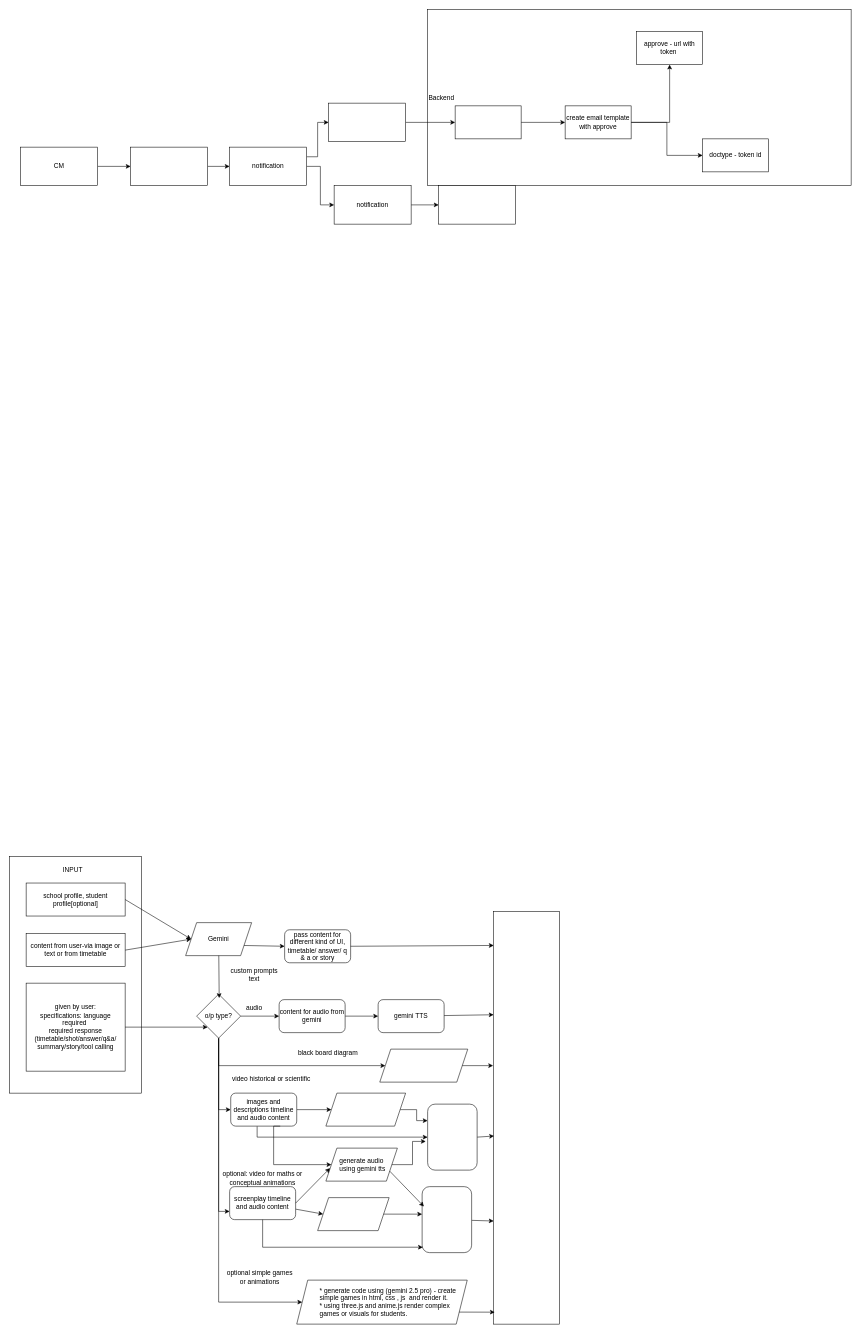
The diagram is 861 pixels wide and 1334 high, and some of its shapes have lost their labels. The shapes that lost their labels are listed below. From the top down, each one's centre as x and y in pixels, then its label:
At pixel 367 122: "Manager notification".
At pixel 488 122: "webhooks".
At pixel 169 166: "create".
At pixel 477 204: "all users".
At pixel 423 1065: "generate simple flow diagrams that teacher can draw on black board".
At pixel 365 1109: "generate images using imagen4".
At pixel 526 1117: "USER".
At pixel 452 1137: "pass images, audio, text overlays transition effect as params (moviepy library)".
At pixel 353 1214: "generate code for manim using gemini 2.5 models".
At pixel 447 1219: "render video and attach audio (manim library)".
